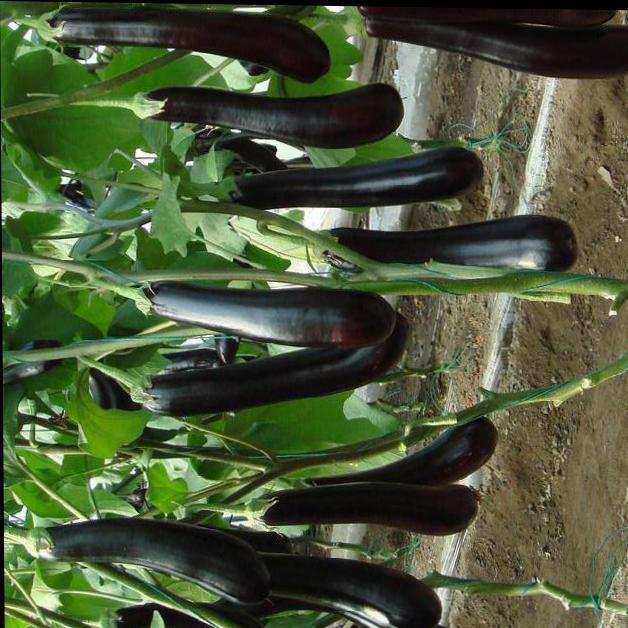eggplant: (123, 48, 444, 230), (106, 270, 392, 429), (22, 480, 306, 588)
